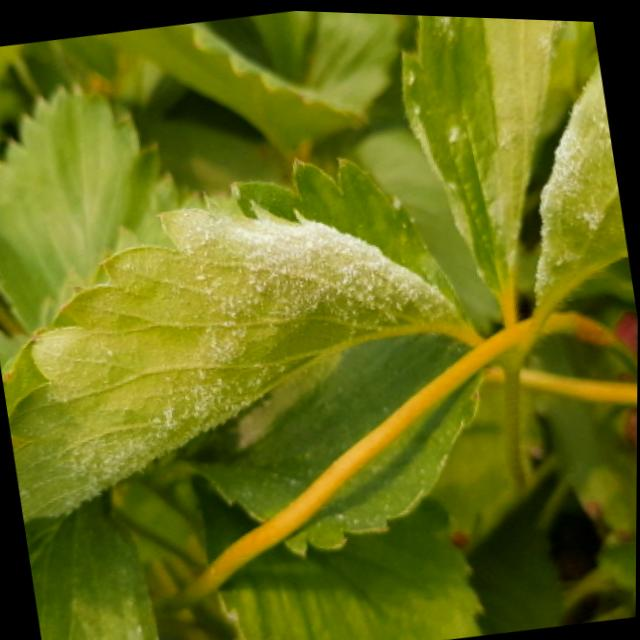Powdery Mildew Leaf: (1, 153, 481, 524), (180, 331, 495, 557), (401, 12, 571, 297), (529, 57, 629, 320)
